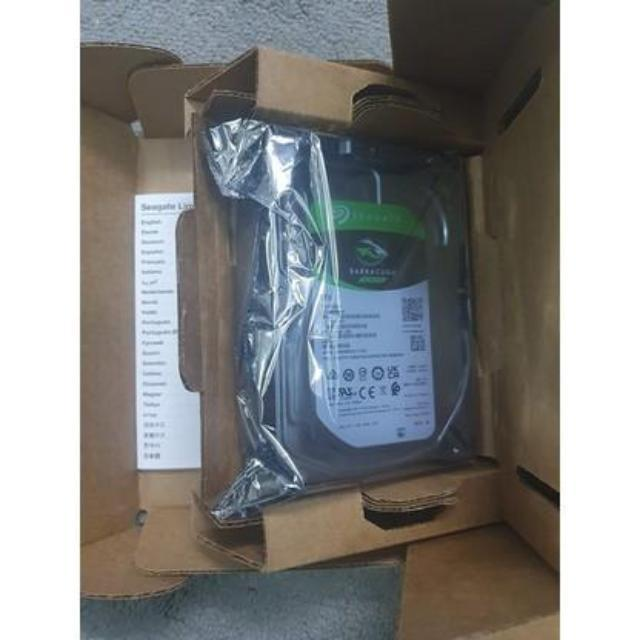DISK: (237, 113, 474, 504)
